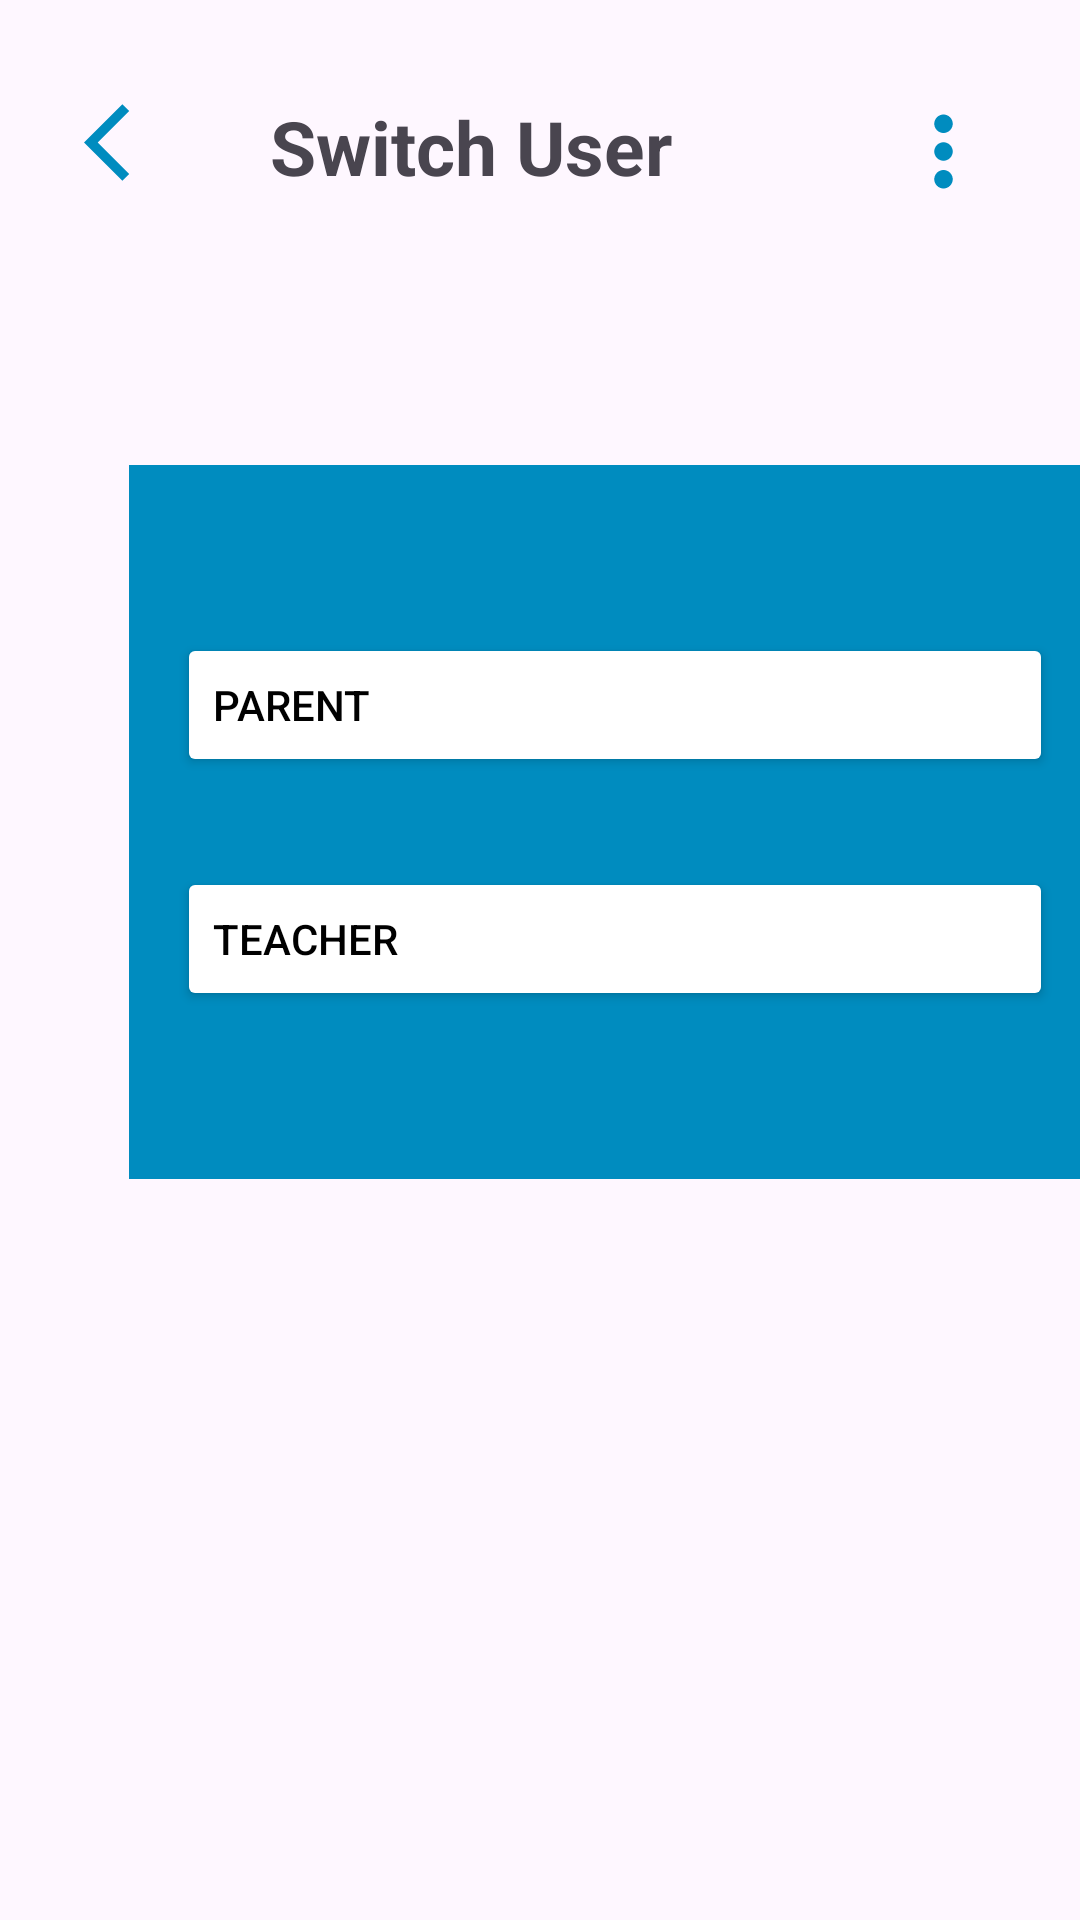

Screen size 1080px×1920px. Icon name, then its center in pixels as (x,y):
backarrow: (106,142)
dots: (943,151)
